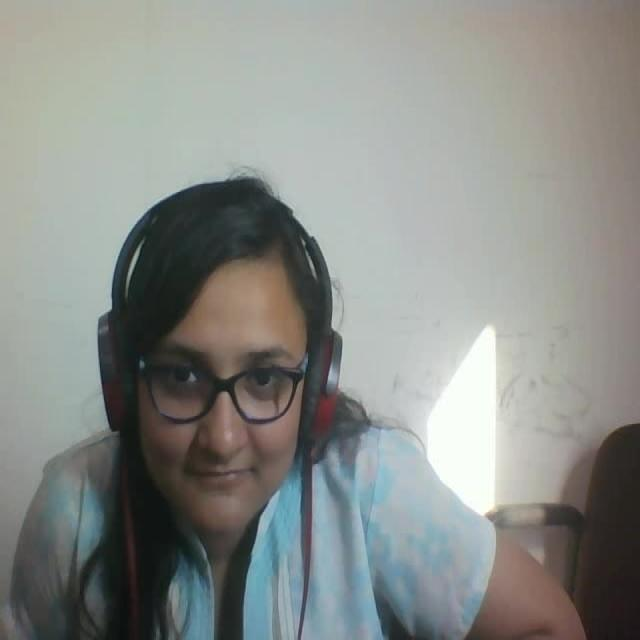Engaged: (82, 157, 356, 561)
